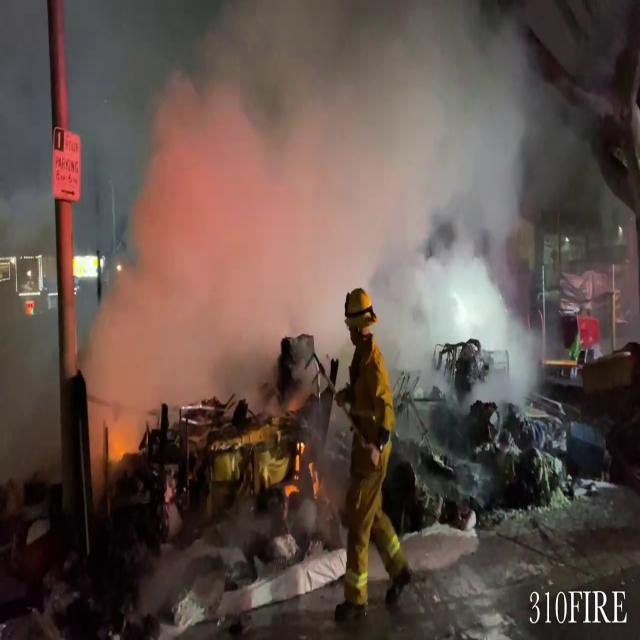Smoke: (84, 0, 574, 396)
